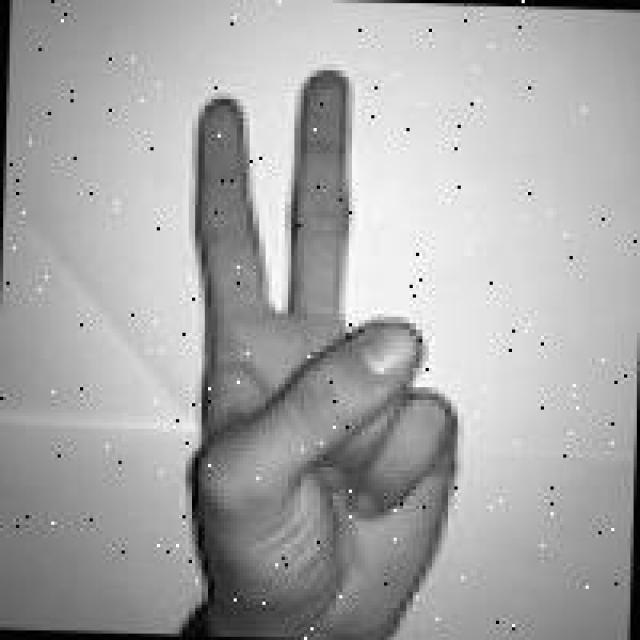V: (166, 59, 474, 613)
